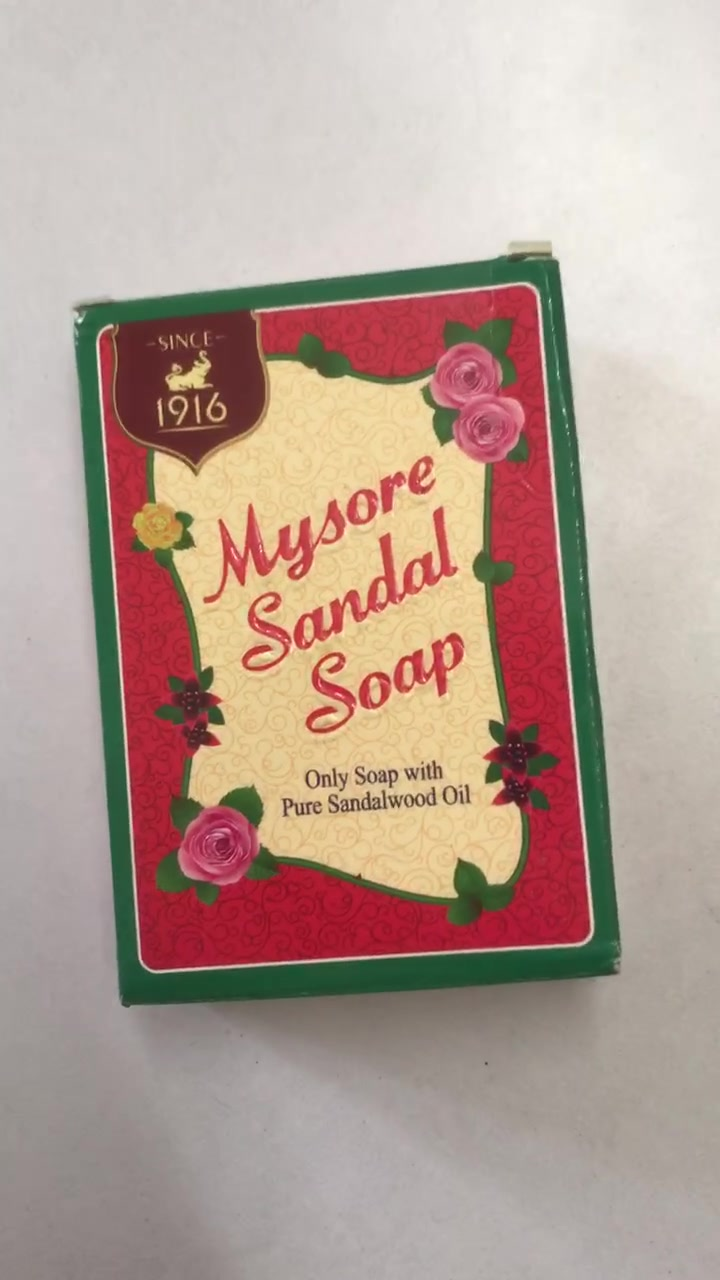mysore sandal soap: (70, 250, 621, 1013)
